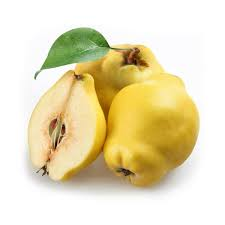Quince: (87, 72, 204, 189)
